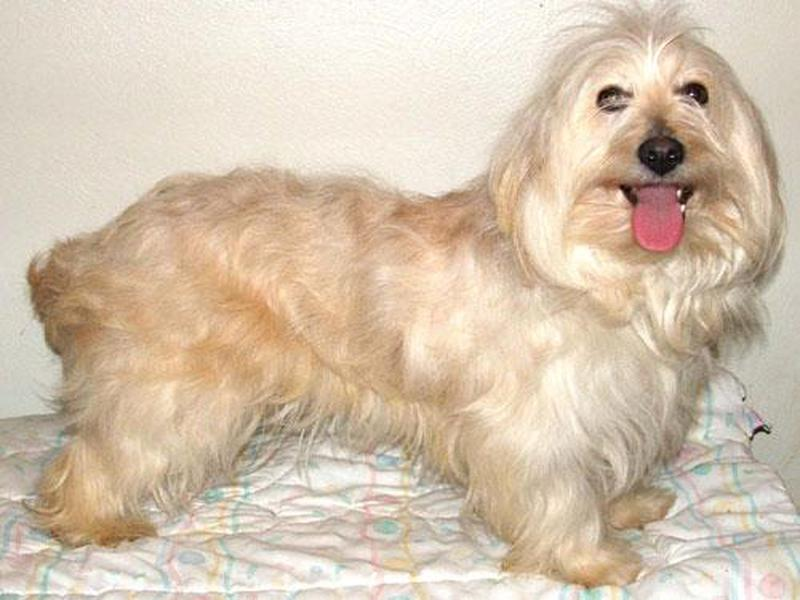dog: (17, 10, 783, 583)
